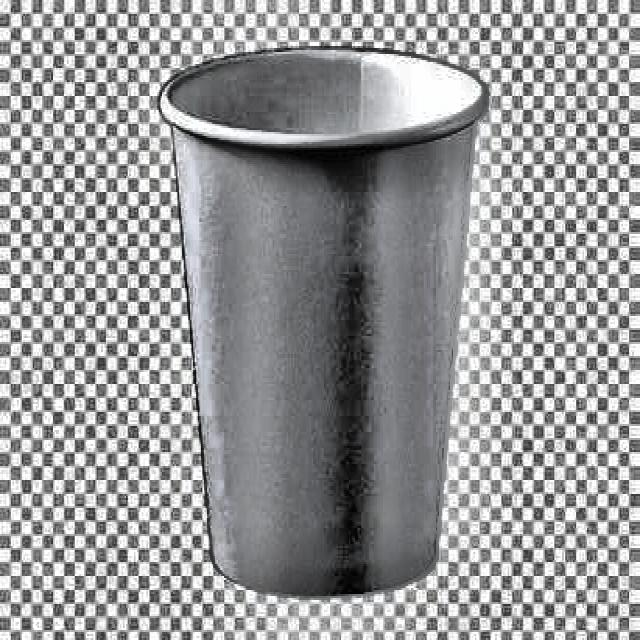Cup: (148, 30, 488, 619)
